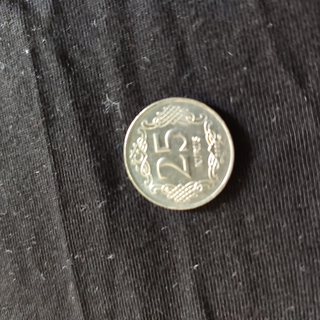25KURUS: (121, 94, 237, 212)
